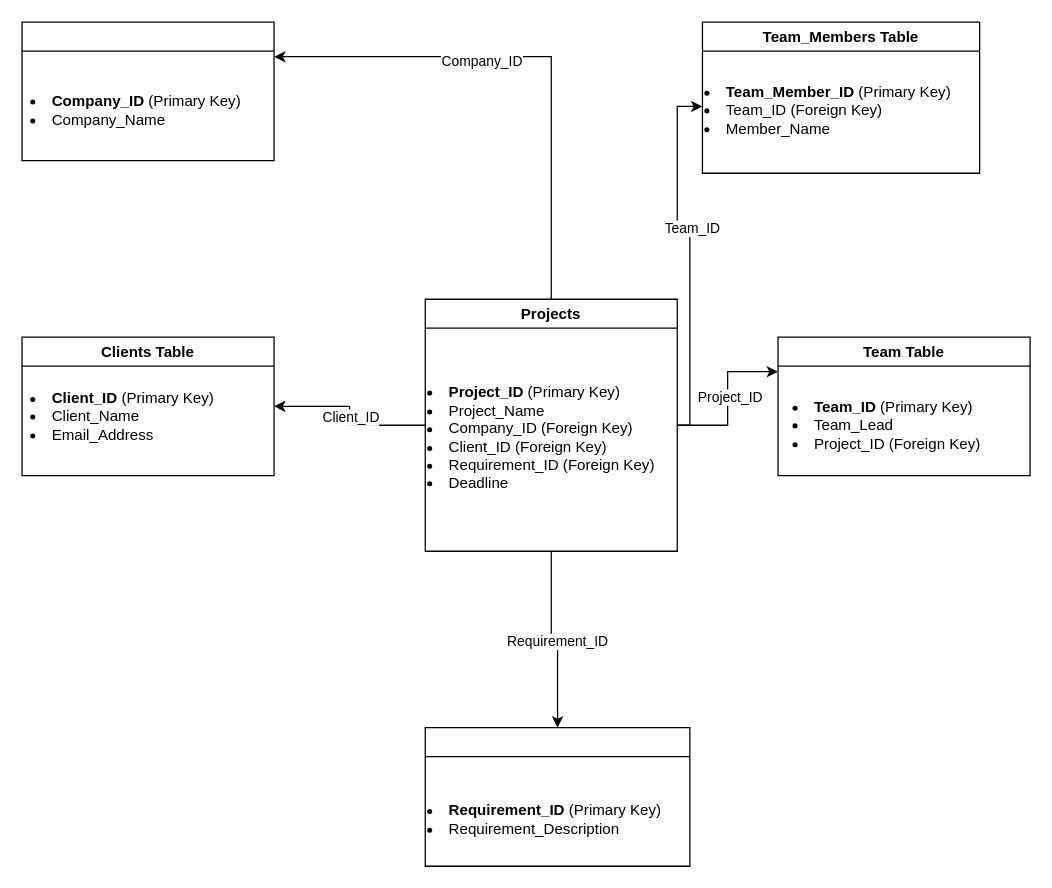
The diagram is 1052 pixels wide and 888 high, and some of its shapes have lost their labels. Here are the shapes that lost their labels. From the top down, the box of each, then its label:
(21, 21, 274, 161): Companies Table
(424, 726, 690, 866): Requirements Table
